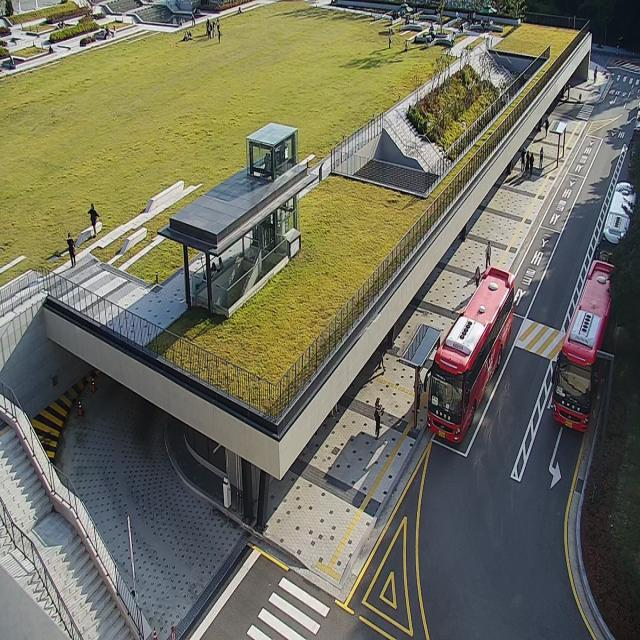queue: (414, 331, 440, 425)
